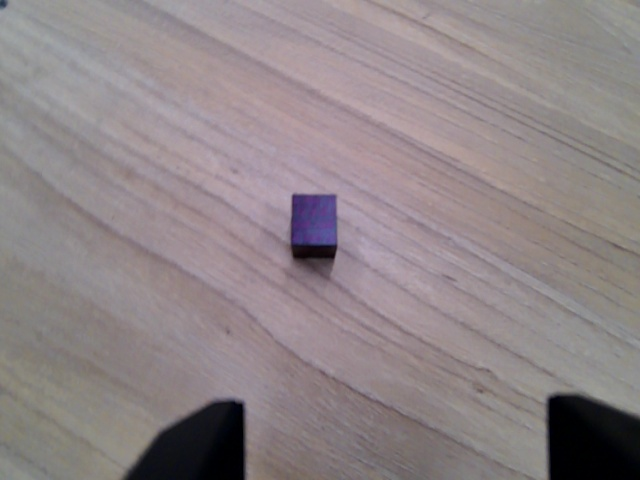brick: (288, 190, 341, 262)
